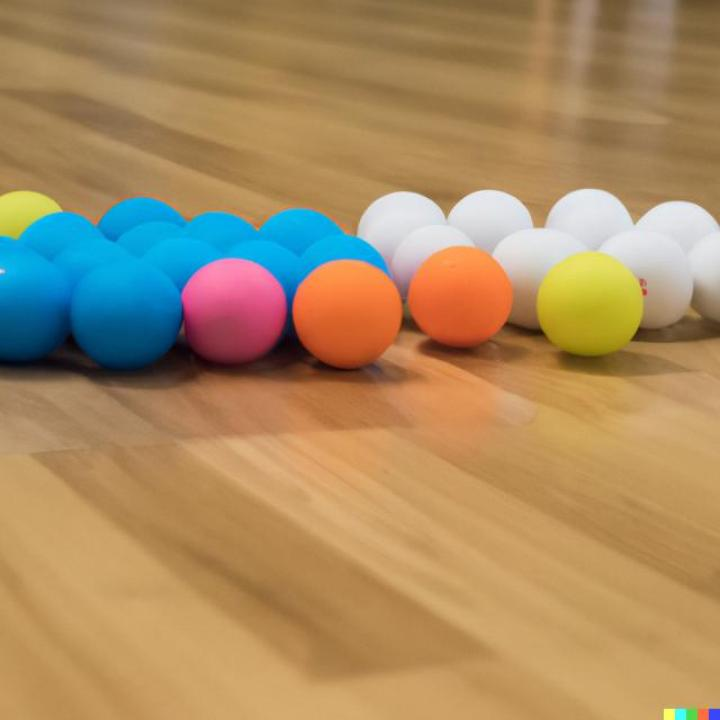orange: (293, 259, 403, 369), (408, 246, 513, 347)
